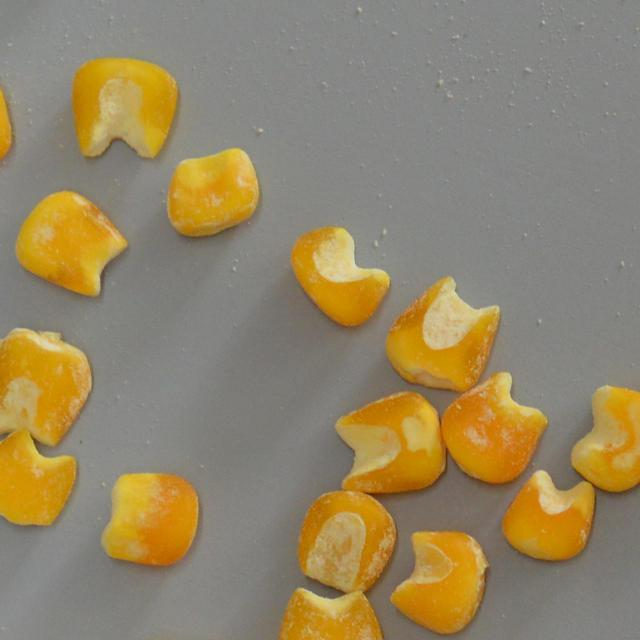no_canjicado: (70, 55, 178, 160), (100, 468, 200, 571), (564, 382, 640, 496), (500, 469, 594, 560), (0, 428, 76, 525), (0, 68, 14, 173)
pelicula: (383, 276, 502, 392), (13, 187, 130, 298), (440, 370, 548, 484), (332, 389, 445, 493), (0, 326, 93, 448), (388, 528, 490, 635), (296, 488, 396, 592), (290, 226, 390, 327), (165, 146, 260, 238), (275, 585, 388, 640)
